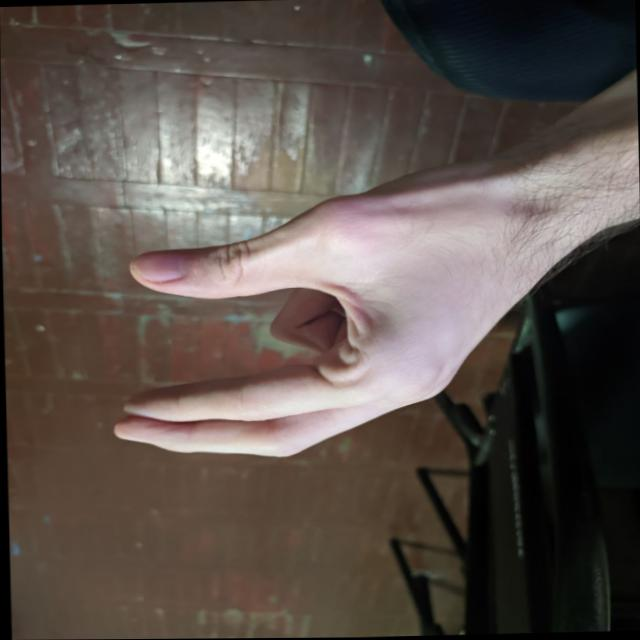ia: (92, 146, 537, 498)
